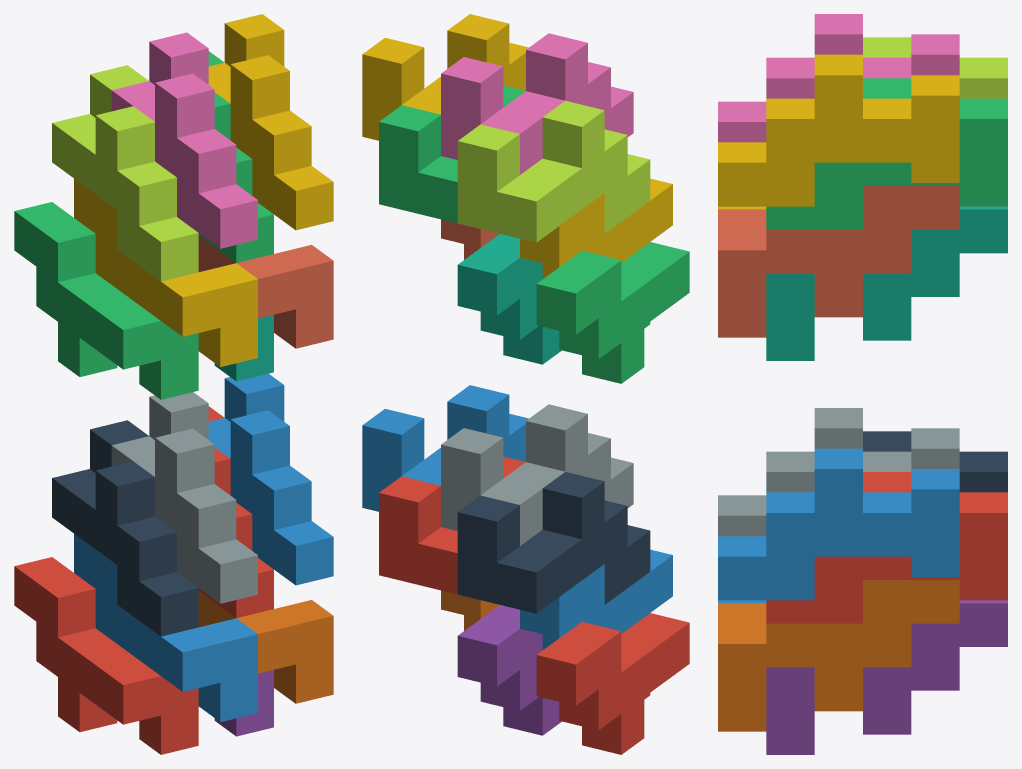
The model's file is tiling.obj.
3 renders of one model, left to right at view 1: azimuth 30°, elevation 25°; view 2: azimuth 150°, elevation 25°; view 3: azimuth 270°, elevation 25°, orthographic. The views are drawn at different scales.
Visible parts, largest first — view 1: copy_1_domain_1, copy_1_domain_3, copy_2_domain_3, copy_2_domain_1, copy_2_domain_4, copy_2_domain_2, copy_2_domain_8, copy_2_domain_6, copy_1_domain_4, copy_1_domain_2, copy_1_domain_8, copy_1_domain_6 (+4 smaller); view 2: copy_2_domain_3, copy_2_domain_1, copy_1_domain_1, copy_1_domain_3, copy_2_domain_2, copy_2_domain_4, copy_2_domain_8, copy_2_domain_6, copy_1_domain_7, copy_1_domain_5, copy_2_domain_7, copy_2_domain_5 (+4 smaller); view 3: copy_2_domain_6, copy_2_domain_8, copy_1_domain_6, copy_1_domain_8, copy_1_domain_5, copy_1_domain_7, copy_2_domain_7, copy_2_domain_5, copy_2_domain_4, copy_2_domain_2, copy_2_domain_3, copy_2_domain_1.
Boxes of the visible parts, x1=… form: copy_1_domain_1: x1=14, y1=557, x2=198, y2=754; copy_1_domain_3: x1=14, y1=202, x2=198, y2=399; copy_2_domain_3: x1=52, y1=65, x2=198, y2=281; copy_2_domain_1: x1=52, y1=420, x2=198, y2=636; copy_2_domain_4: x1=111, y1=32, x2=257, y2=248; copy_2_domain_2: x1=111, y1=392, x2=257, y2=603; copy_2_domain_8: x1=208, y1=14, x2=333, y2=230; copy_2_domain_6: x1=208, y1=373, x2=333, y2=585; copy_1_domain_4: x1=74, y1=178, x2=257, y2=366; copy_1_domain_2: x1=74, y1=534, x2=257, y2=722; copy_1_domain_8: x1=198, y1=236, x2=333, y2=348; copy_1_domain_6: x1=198, y1=591, x2=333, y2=703; copy_2_domain_3: x1=457, y1=100, x2=650, y2=242; copy_2_domain_1: x1=457, y1=472, x2=650, y2=613; copy_1_domain_1: x1=536, y1=613, x2=689, y2=754; copy_1_domain_3: x1=536, y1=242, x2=689, y2=383; copy_2_domain_2: x1=441, y1=404, x2=633, y2=545; copy_2_domain_4: x1=441, y1=33, x2=633, y2=174; copy_2_domain_8: x1=362, y1=14, x2=528, y2=140; copy_2_domain_6: x1=362, y1=385, x2=528, y2=511; copy_1_domain_7: x1=457, y1=234, x2=561, y2=364; copy_1_domain_5: x1=457, y1=605, x2=561, y2=735; copy_2_domain_7: x1=379, y1=85, x2=525, y2=223; copy_2_domain_5: x1=379, y1=456, x2=525, y2=594; copy_2_domain_6: x1=718, y1=448, x2=959, y2=600; copy_2_domain_8: x1=718, y1=54, x2=959, y2=206; copy_1_domain_6: x1=718, y1=580, x2=959, y2=731; copy_1_domain_8: x1=718, y1=186, x2=959, y2=337; copy_1_domain_5: x1=766, y1=600, x2=1007, y2=754; copy_1_domain_7: x1=766, y1=206, x2=1007, y2=360; copy_2_domain_7: x1=766, y1=78, x2=1007, y2=229; copy_2_domain_5: x1=766, y1=472, x2=1007, y2=623; copy_2_domain_4: x1=718, y1=14, x2=959, y2=142; copy_2_domain_2: x1=718, y1=408, x2=959, y2=536; copy_2_domain_3: x1=863, y1=37, x2=1007, y2=98; copy_2_domain_1: x1=863, y1=431, x2=1007, y2=492.
Bounding box in the file's own units: 6 × 16 × 6.
